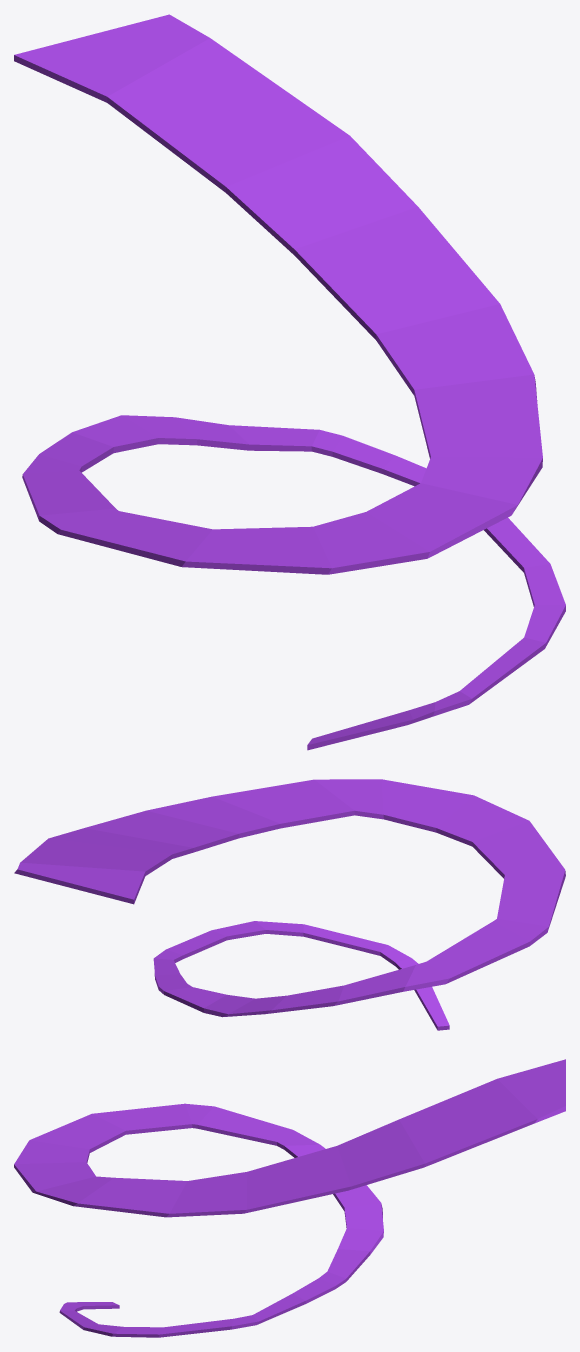
The model's file is Glass_100.fbx.
3 views of the same model, one above another, from view 1: azimuth 30°, elevation 25°; view 2: azimuth 150°, elevation 25°; view 3: azimuth 270°, elevation 25° (orthographic). The views are drawn at different scales.
Visible parts, largest first — view 1: Glass_100; view 2: Glass_100; view 3: Glass_100.
Boxes of the visible parts, box(x1,y1,x2,y2) form: Glass_100: box(14, 14, 565, 750); Glass_100: box(14, 779, 565, 1030); Glass_100: box(14, 1059, 565, 1337).
Size of the model in its own units: 3409 by 2803 by 5241.
